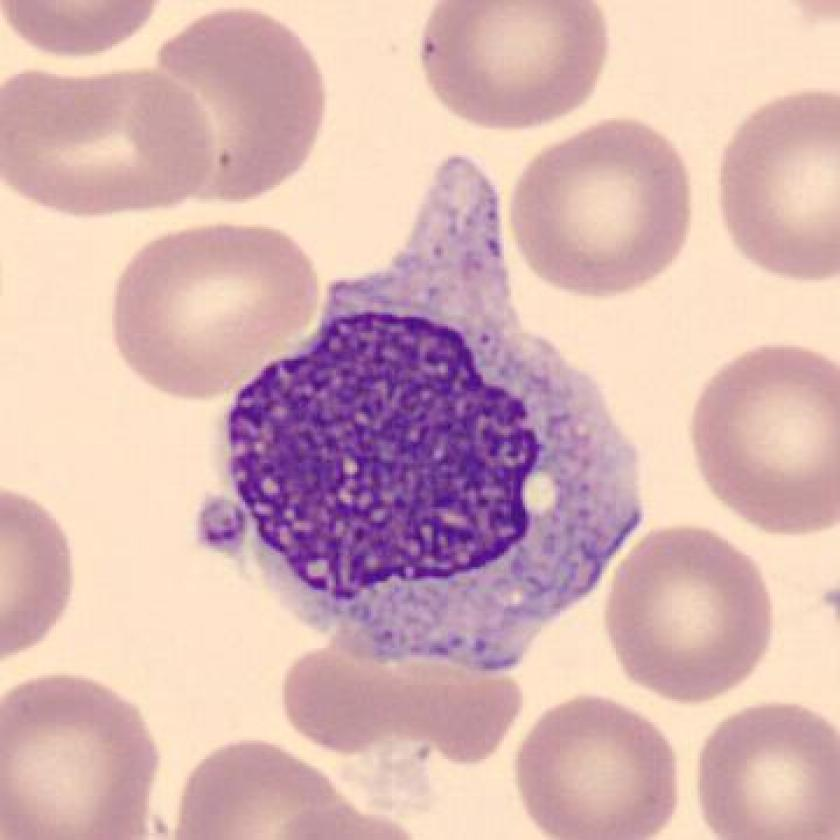monocyte: (207, 138, 662, 682)
